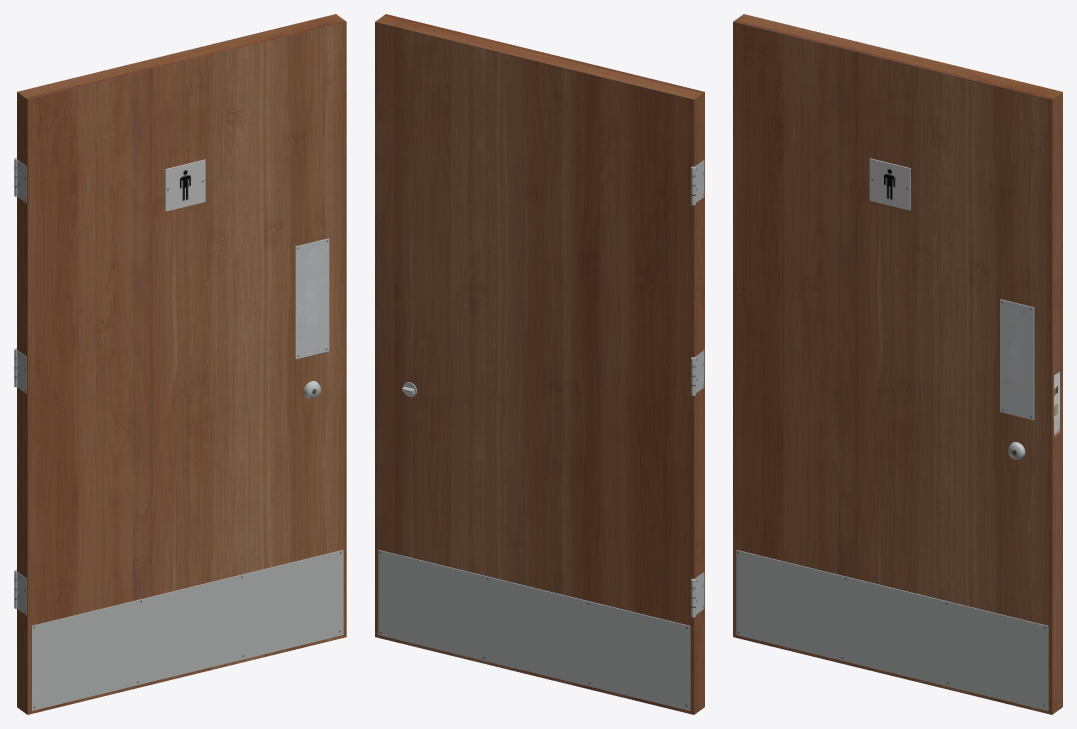
Rendered from SM_Door_Mens_01.glb.
The picture shows the model from 3 angles, left to right: view 1: azimuth 30°, elevation 25°; view 2: azimuth 150°, elevation 25°; view 3: azimuth 330°, elevation 25°; orthographic projection.
Parts seen in each view (by area): view 1: SM_Door_Mens_01; view 2: SM_Door_Mens_01; view 3: SM_Door_Mens_01.
Part boxes in pixels (<box>): SM_Door_Mens_01: <box>14,14,346,714</box>; SM_Door_Mens_01: <box>375,14,704,714</box>; SM_Door_Mens_01: <box>733,14,1062,714</box>.
Size of the model in its own units: 1.31 by 2.39 by 0.1107.
Materials: 1 (1 with a texture image).
